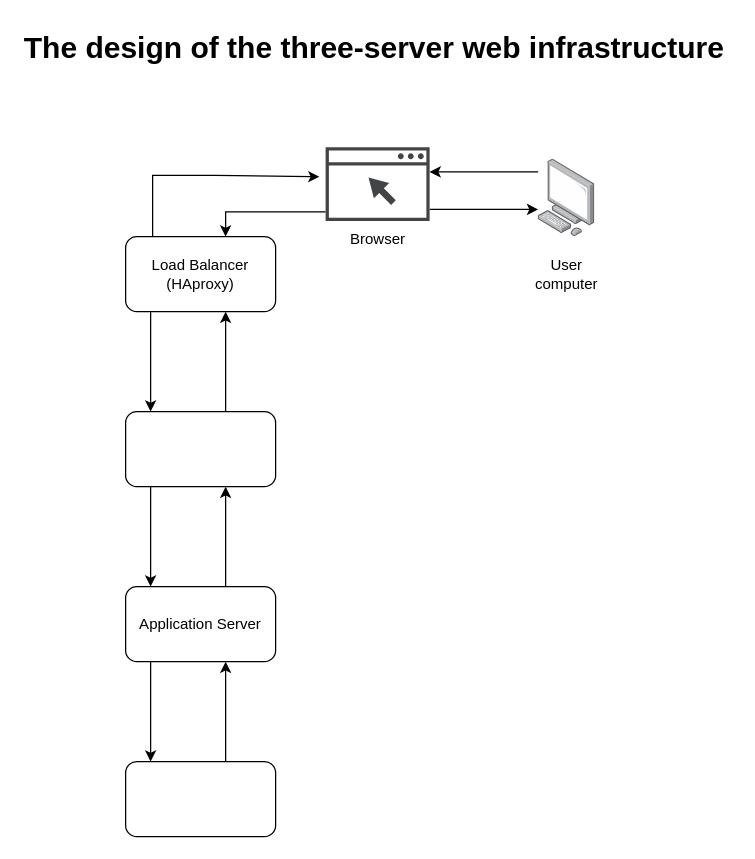
This 755x859 diagram has some shape labels left out. The centre of each missing label's shape, as x and y in pixels:
Database (MySQL): (200,798)
Web Server (Nginx): (200,448)
